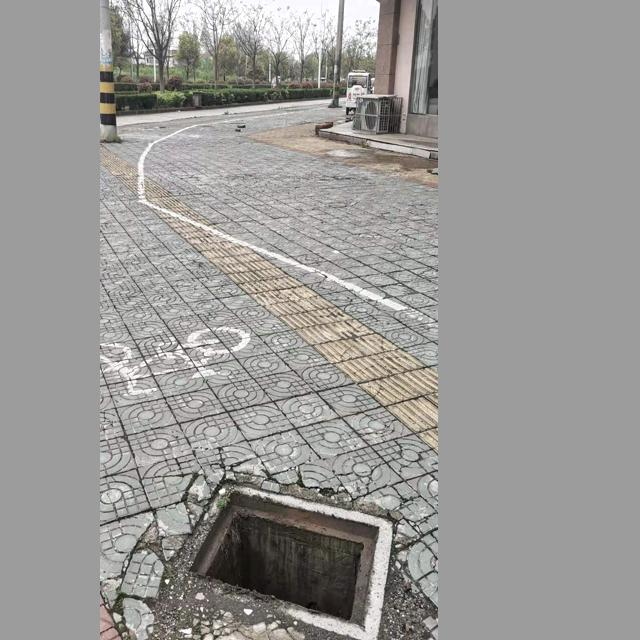lose: (171, 481, 395, 640)
